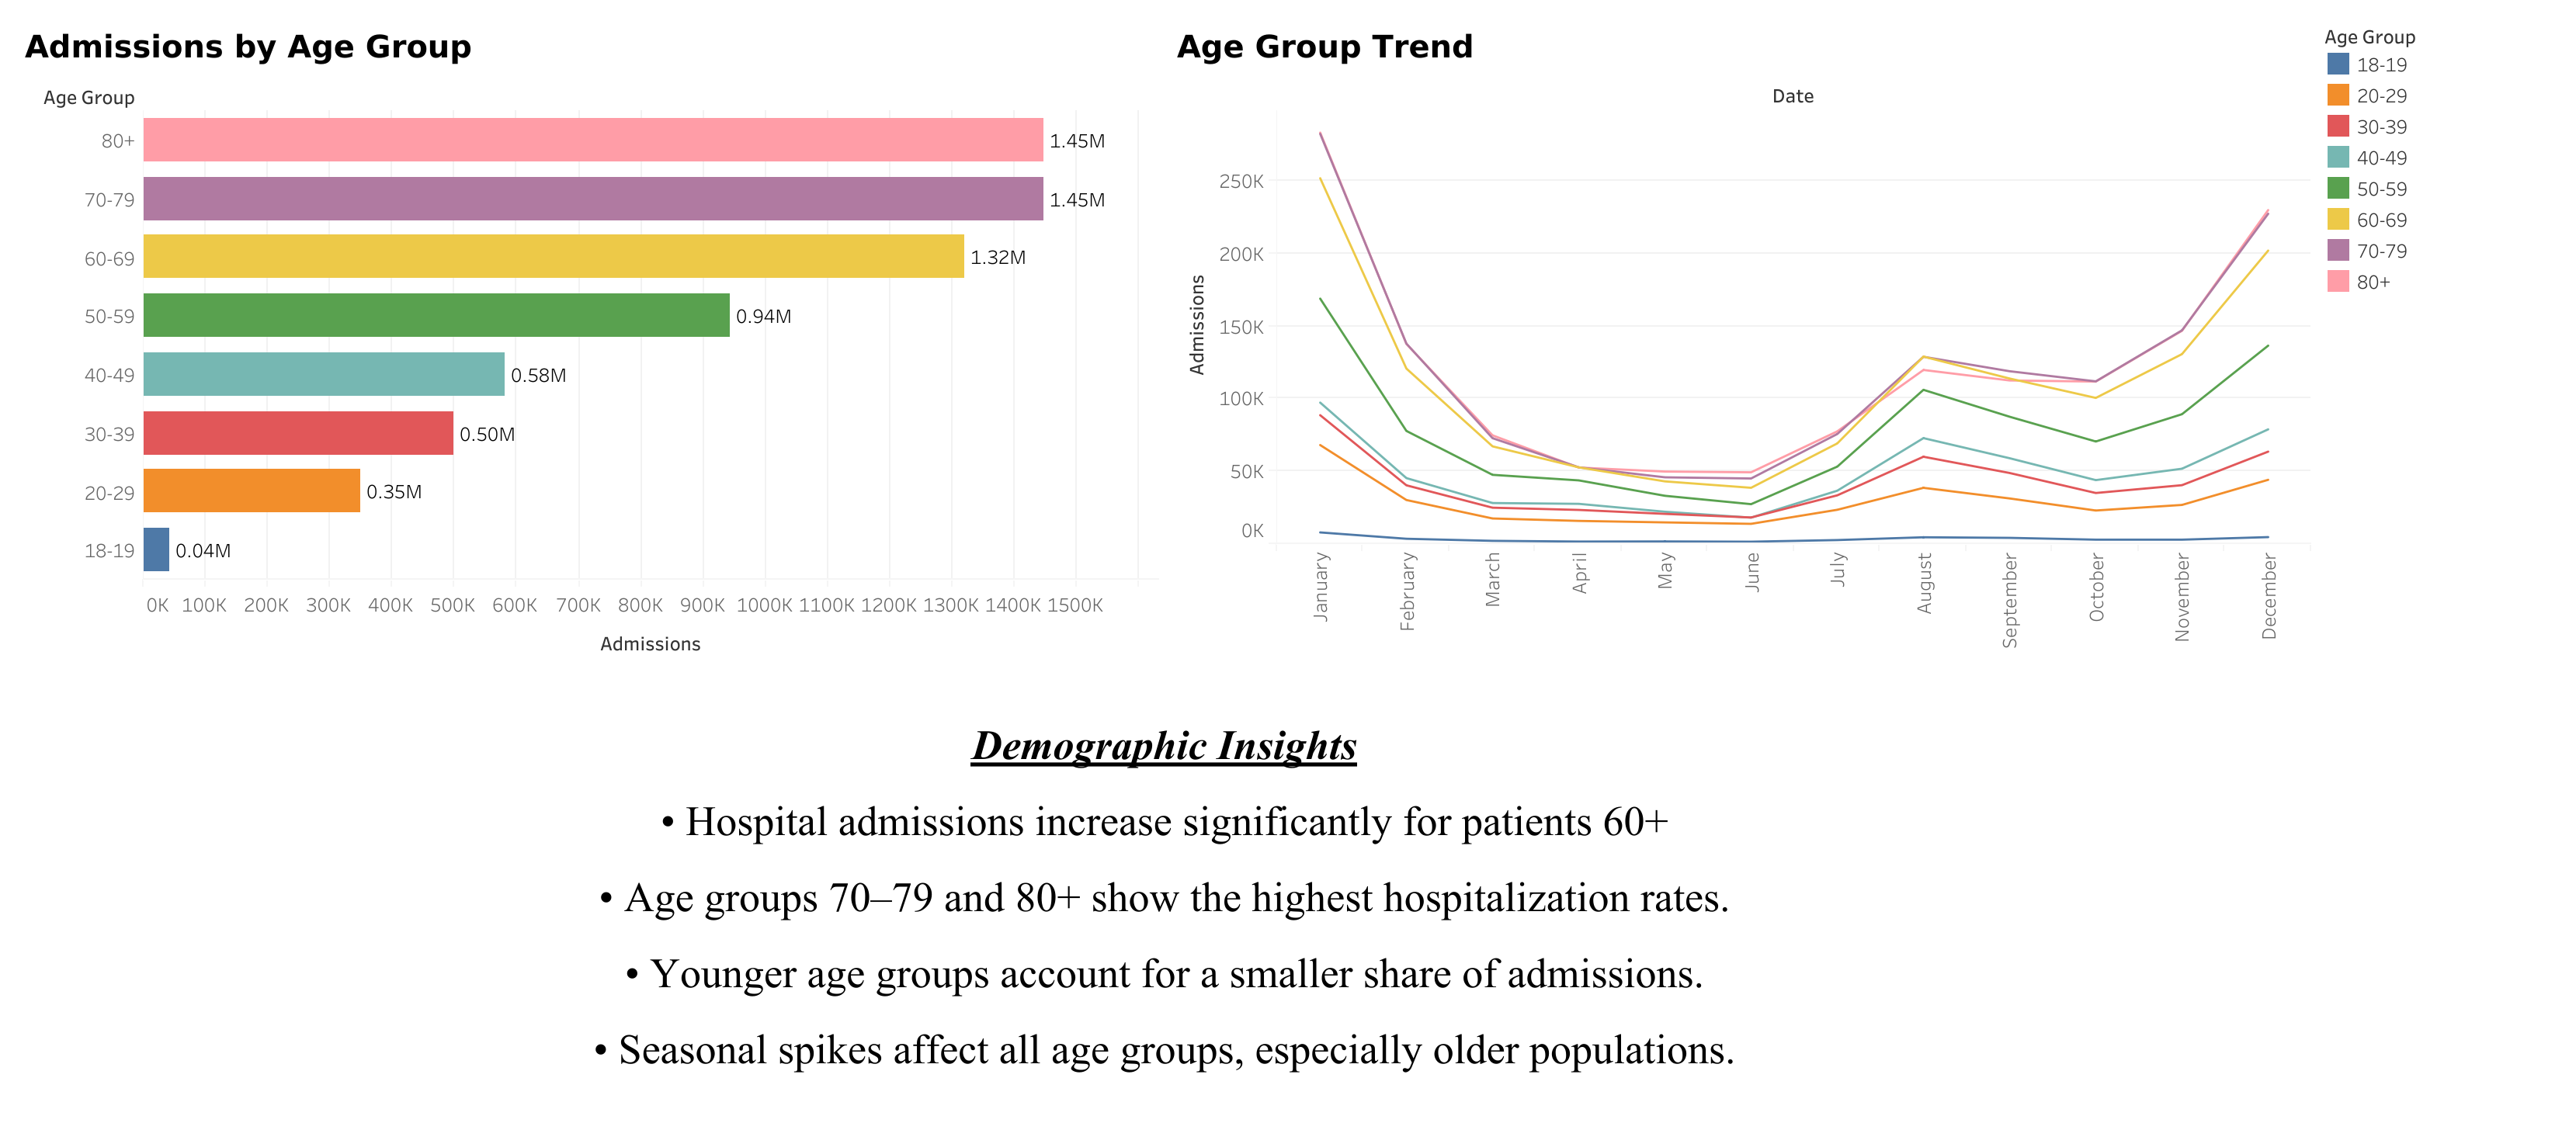

What the dashboard file says about the page in this screenshot:
{"tool":"tableau","page":{"name":"Demographic Insights","canvas":[1000,1000],"units":"permille","ordinal":0},"visuals":[{"type":"worksheet","title":"Admissions by Age Group","mark":"Automatic","rows":["age_group"],"cols":["admissions"],"box":[5.3,9.3,441.3,586.1]},{"type":"worksheet","title":"Age Group Trend","mark":"Automatic","rows":["admissions"],"cols":["date"],"box":[446.6,9.3,441.3,586.1]},{"type":"legend","title":"Age Group Trend","param":"[federated.0iokf480qtsn7s11d7m9f01dg6ry].[none:age_group:nk]","box":[887.9,9.3,106.7,216.3]},{"type":"text","box":[5.3,595.4,882.6,395.4]}]}

Visuals, with their boxes on the dashboard's canvas, which has no fixed pixel size, in thousandths of its width and height (x1, y1, x2, y2). These are canvas units, not pixel positions in the 2576x1130 screenshot, which may show the page scaled, cropped or inside an application window:
"Admissions by Age Group" worksheet: 5 9 447 595
"Age Group Trend" worksheet: 447 9 888 595
"Age Group Trend" legend: 888 9 995 226
text: 5 595 888 991
